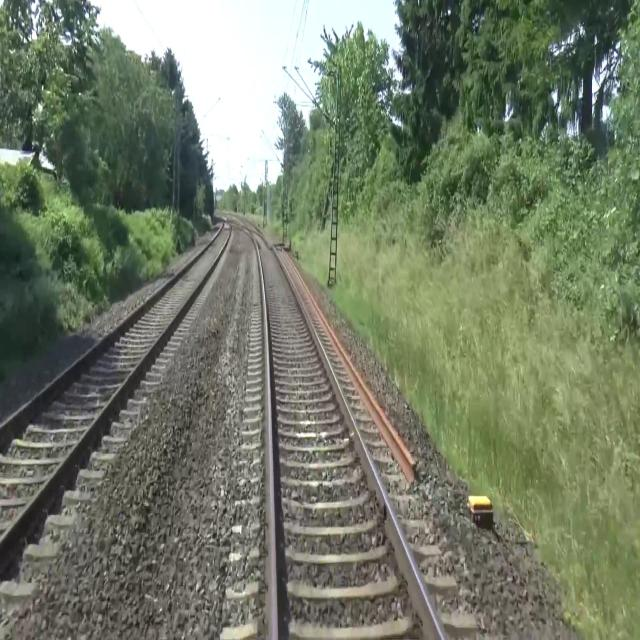rail-track: (229, 214, 442, 639), (0, 215, 230, 536)
